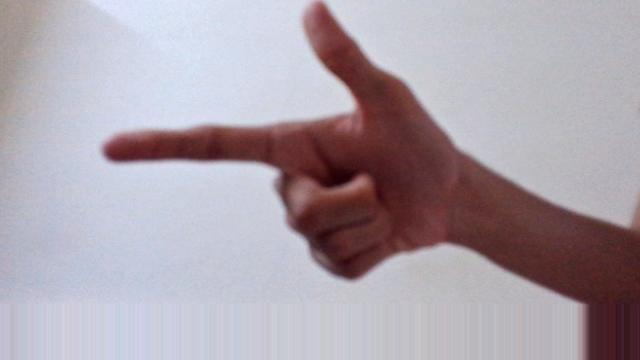Right: (102, 1, 451, 282)
